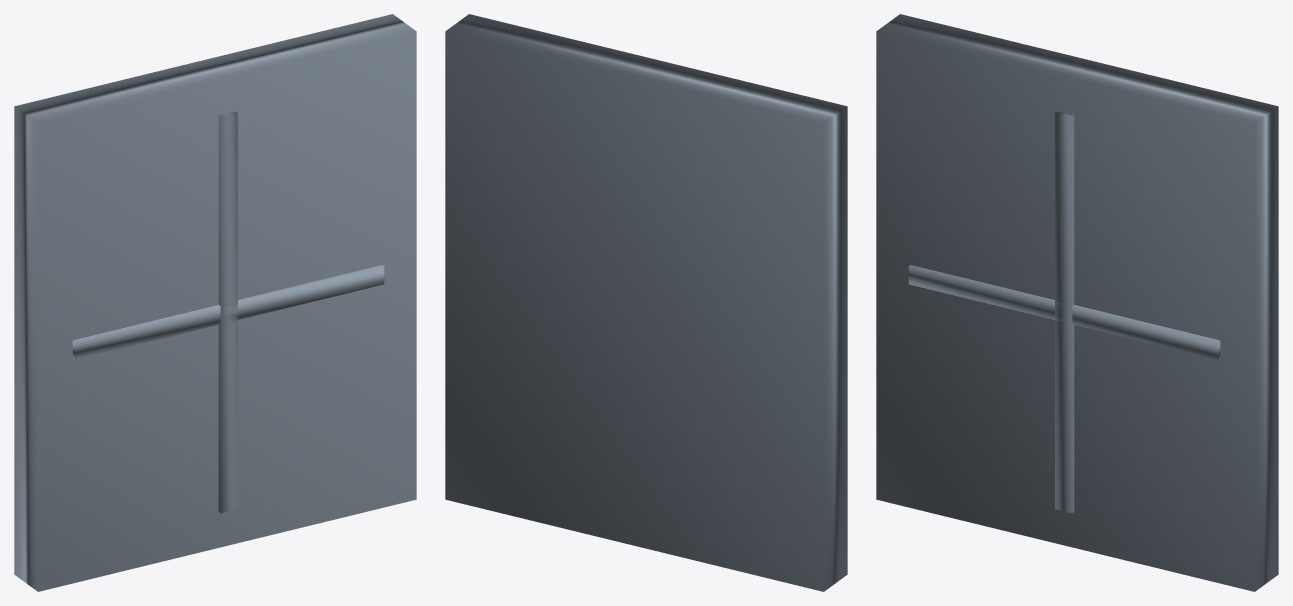
The model's file is window.obj.
The picture shows the model from 3 angles, left to right: view 1: azimuth 30°, elevation 25°; view 2: azimuth 150°, elevation 25°; view 3: azimuth 330°, elevation 25°; orthographic projection.
Bounding box in the file's own units: 2.2 × 2.6 × 0.26.
